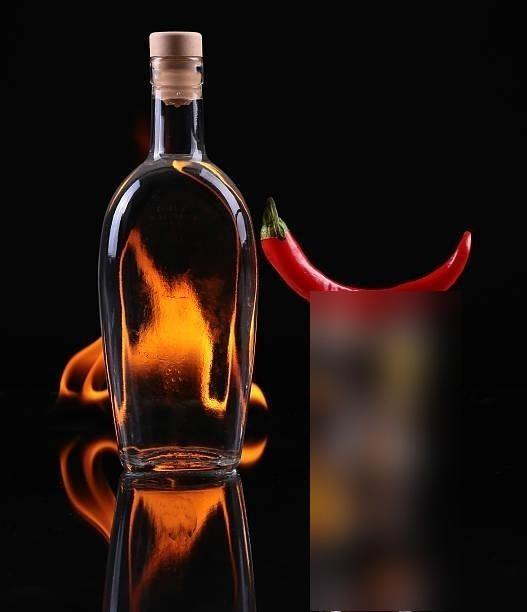bottle-glass: (93, 26, 263, 478)
